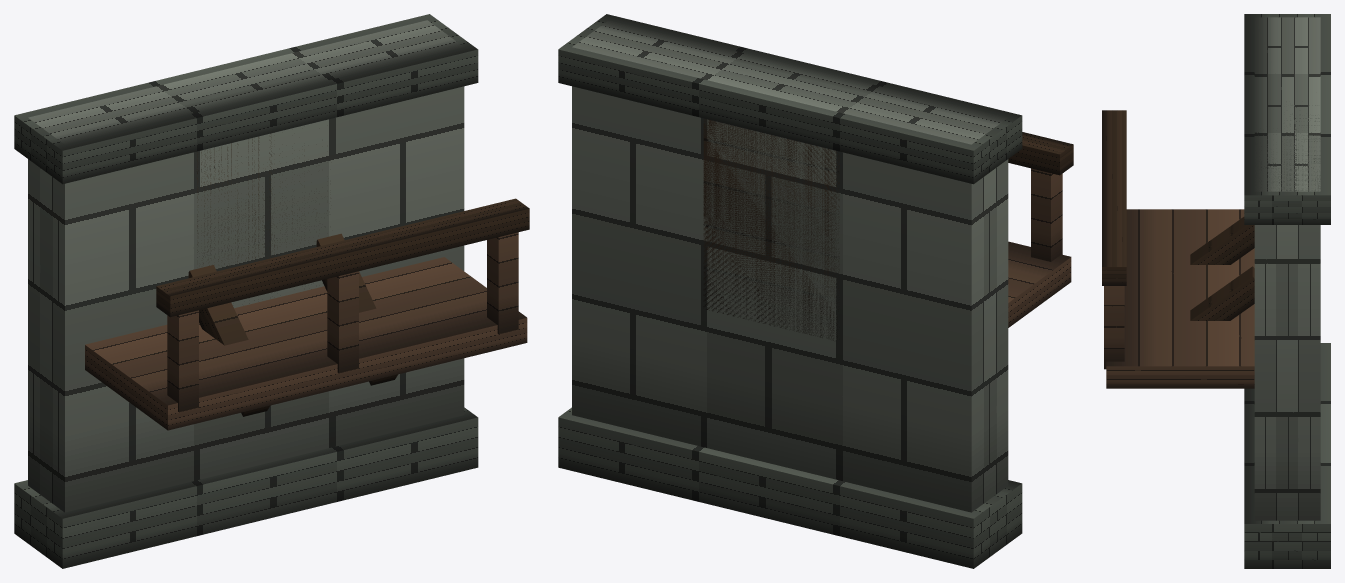
File: balcony.gltf
3 views of the same model, side by side, from view 1: azimuth 30°, elevation 25°; view 2: azimuth 150°, elevation 25°; view 3: azimuth 270°, elevation 25° (orthographic). The views are drawn at different scales.
Visible parts, largest first — view 1: balcony; view 2: balcony; view 3: balcony.
Boxes of the visible parts, bbox=[...] form: balcony: bbox=[14, 14, 529, 568]; balcony: bbox=[558, 14, 1073, 568]; balcony: bbox=[1102, 14, 1330, 568].
Bounding box in the file's own units: 1.04 × 1 × 0.555.
1 material, 1 textured.
